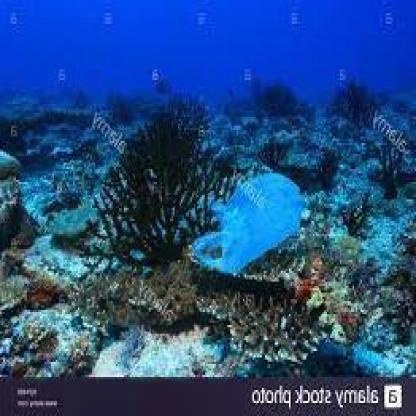pbag: (191, 174, 308, 278)
